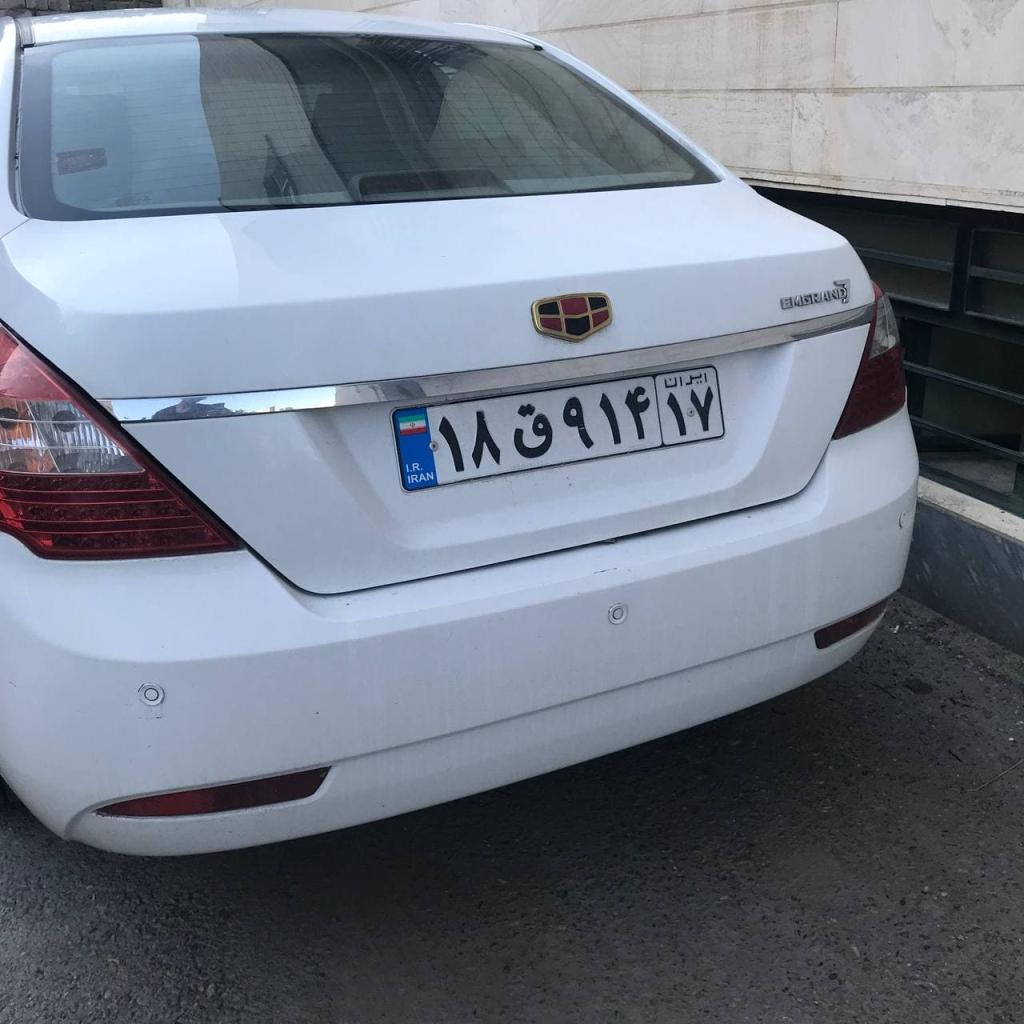Plates: (391, 365, 725, 492)
